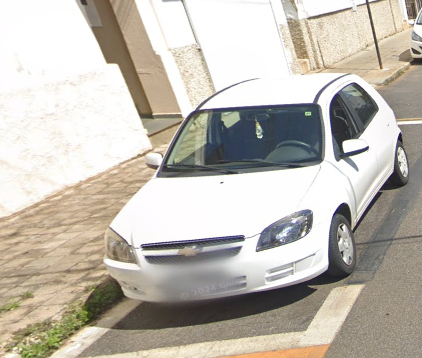car: (96, 69, 415, 309)
